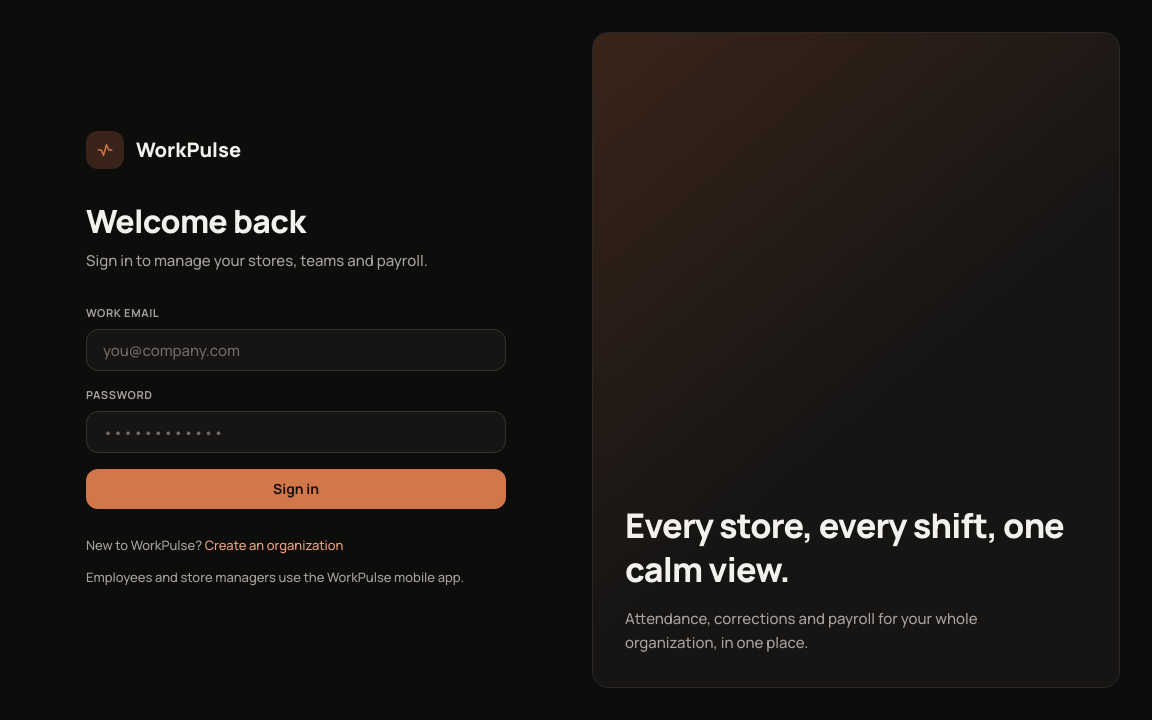
LoginPage › shows the API's message when credentials are wrong
This screenshot has width=1152, height=720.
Type "admin@example.com" into the field labelled "Work email" at (296, 350), box [86, 329, 506, 371]
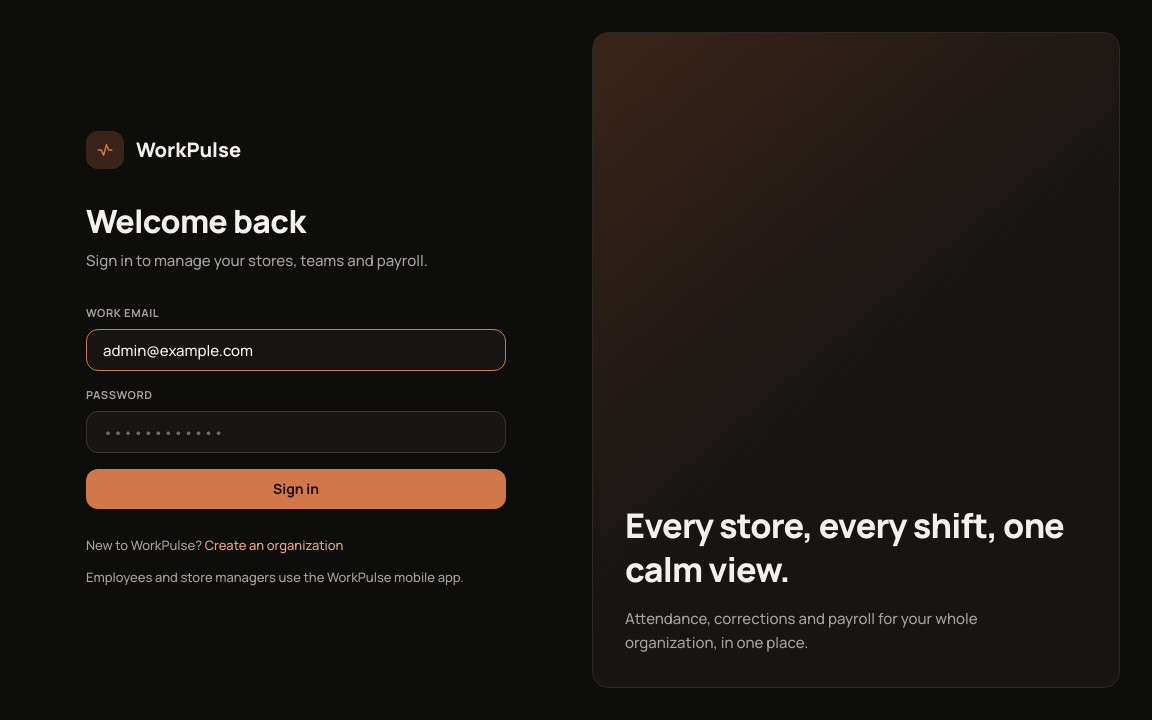
Type "wrong-password" into the password field labelled "Password" at (296, 432), box [86, 411, 506, 453]
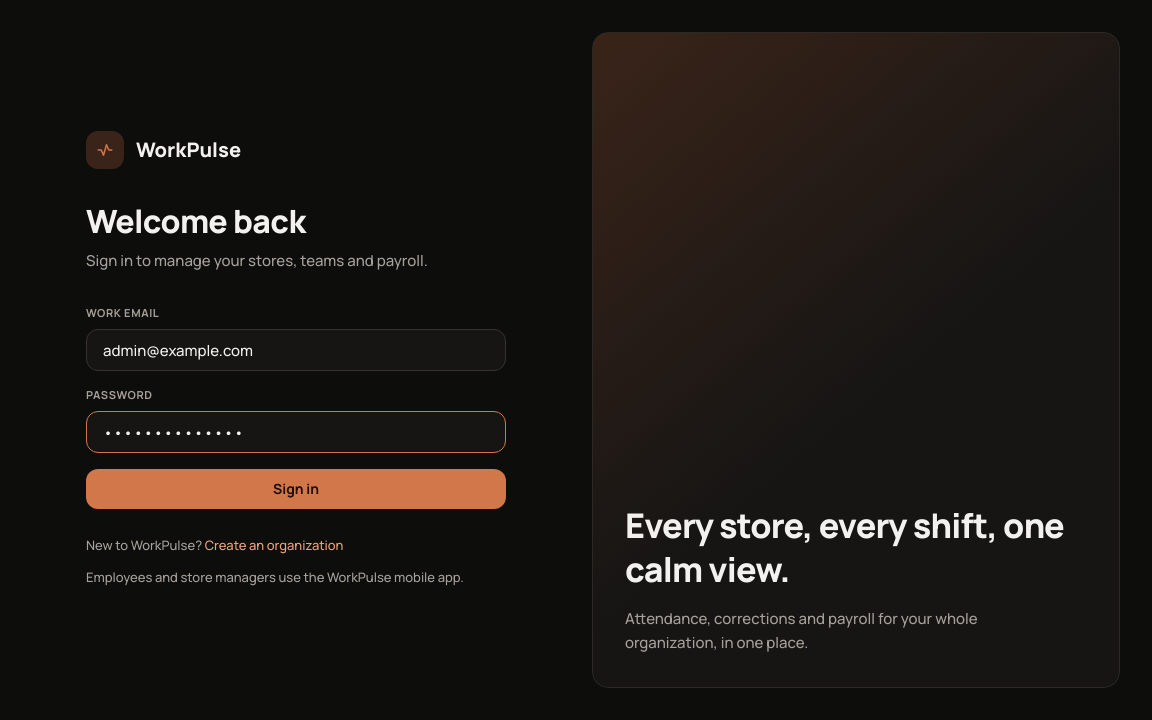
Click the button "Sign in" at (296, 489), box [86, 469, 506, 509]
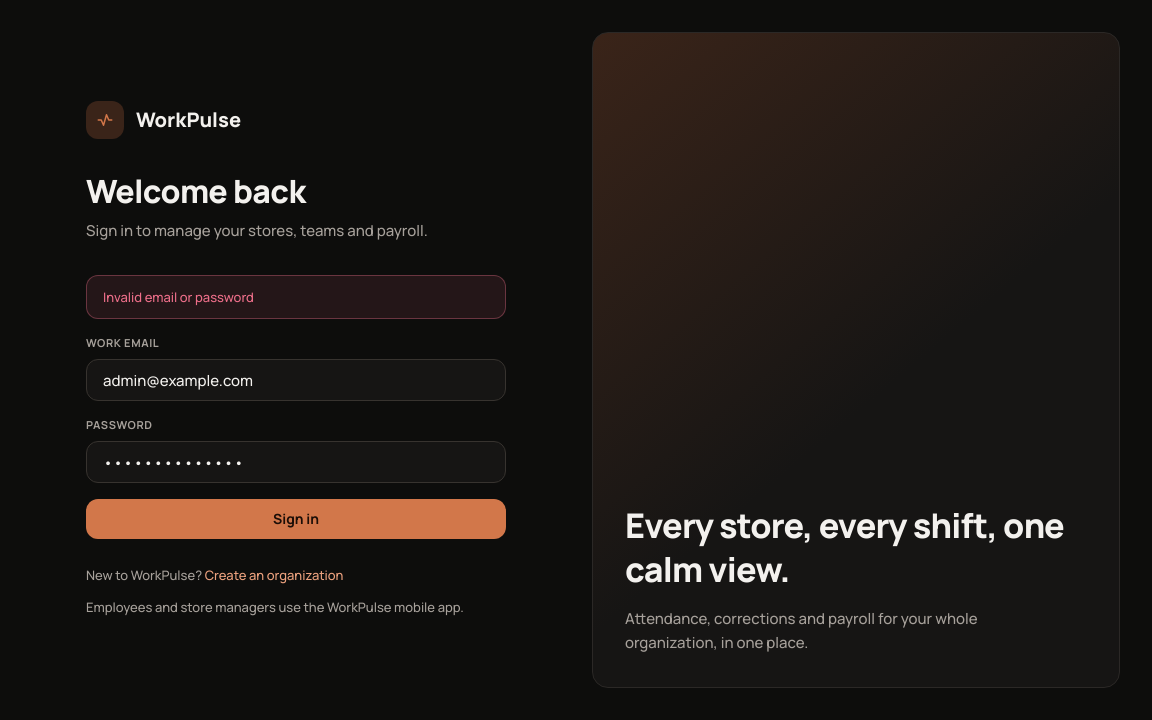
Result: the message reads "Invalid email or password" at [103, 288, 254, 306]
